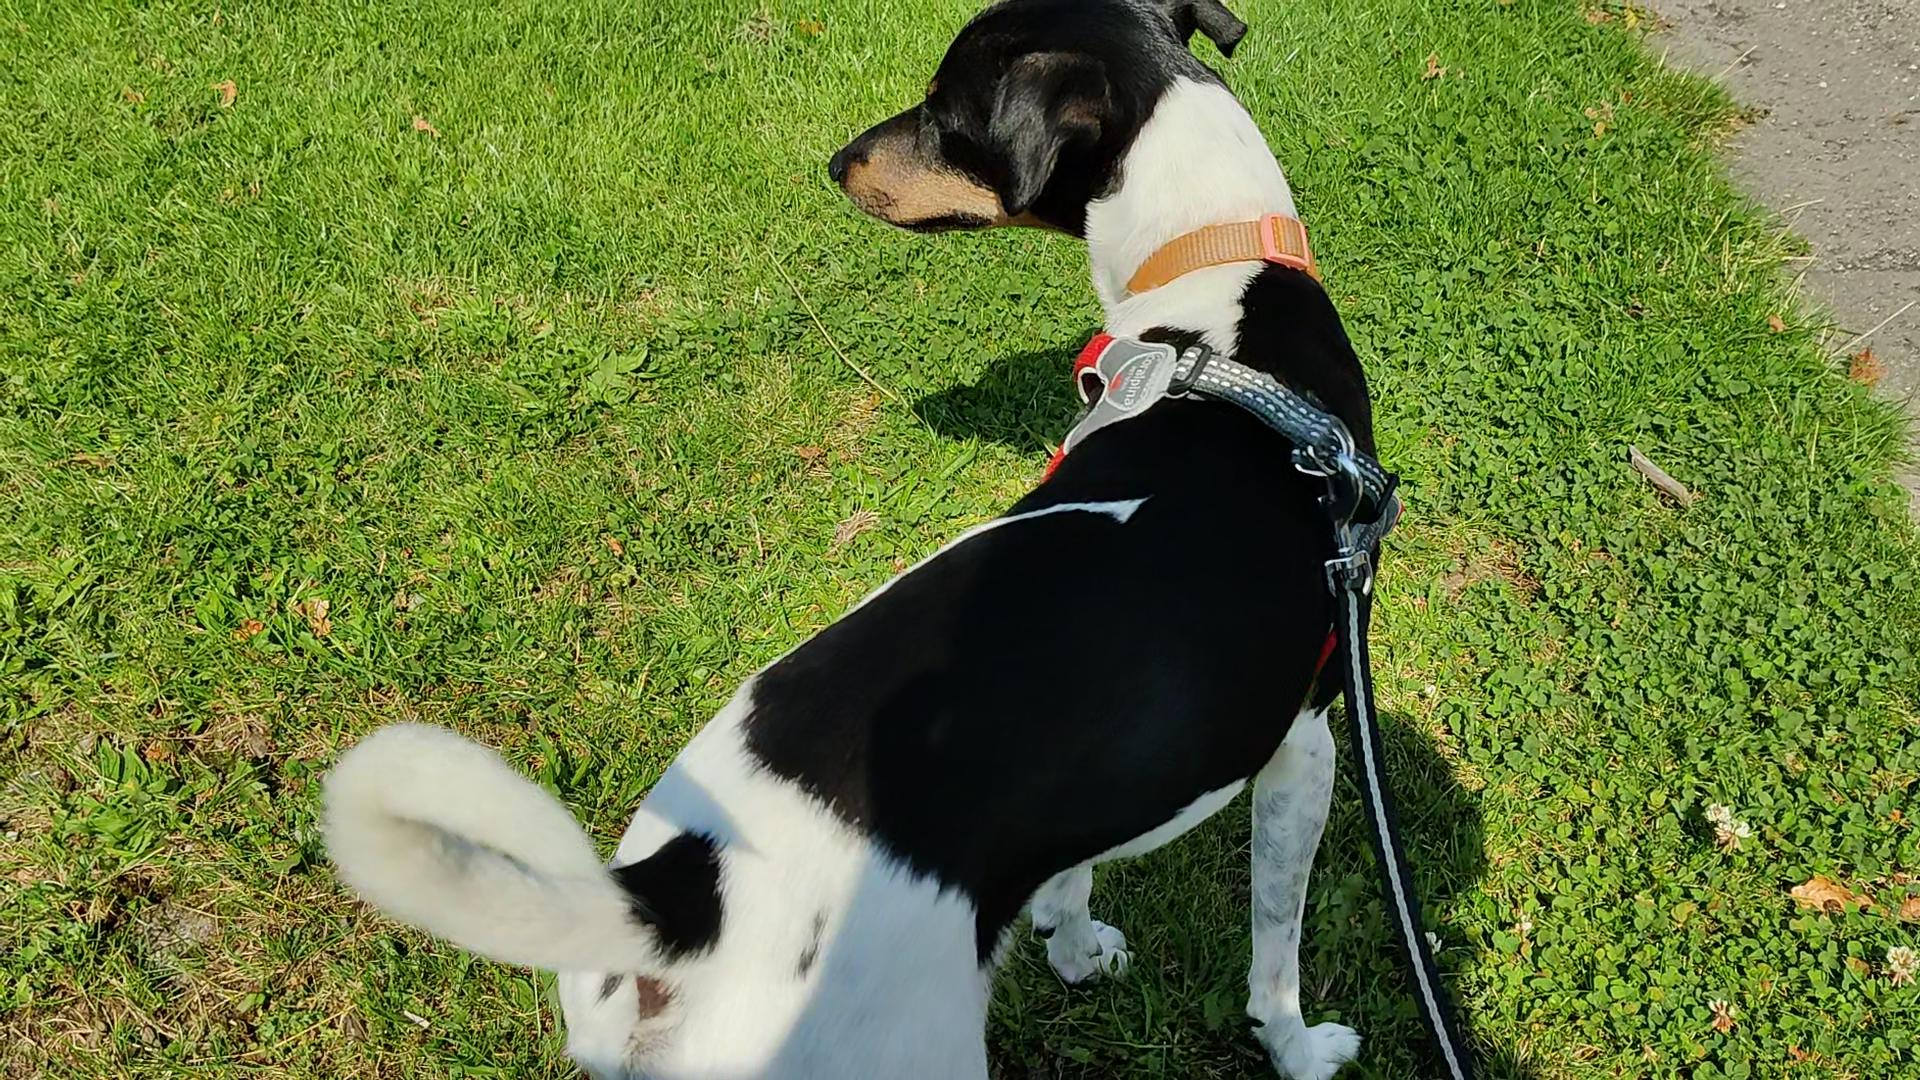Dog: (313, 0, 1408, 1079)
